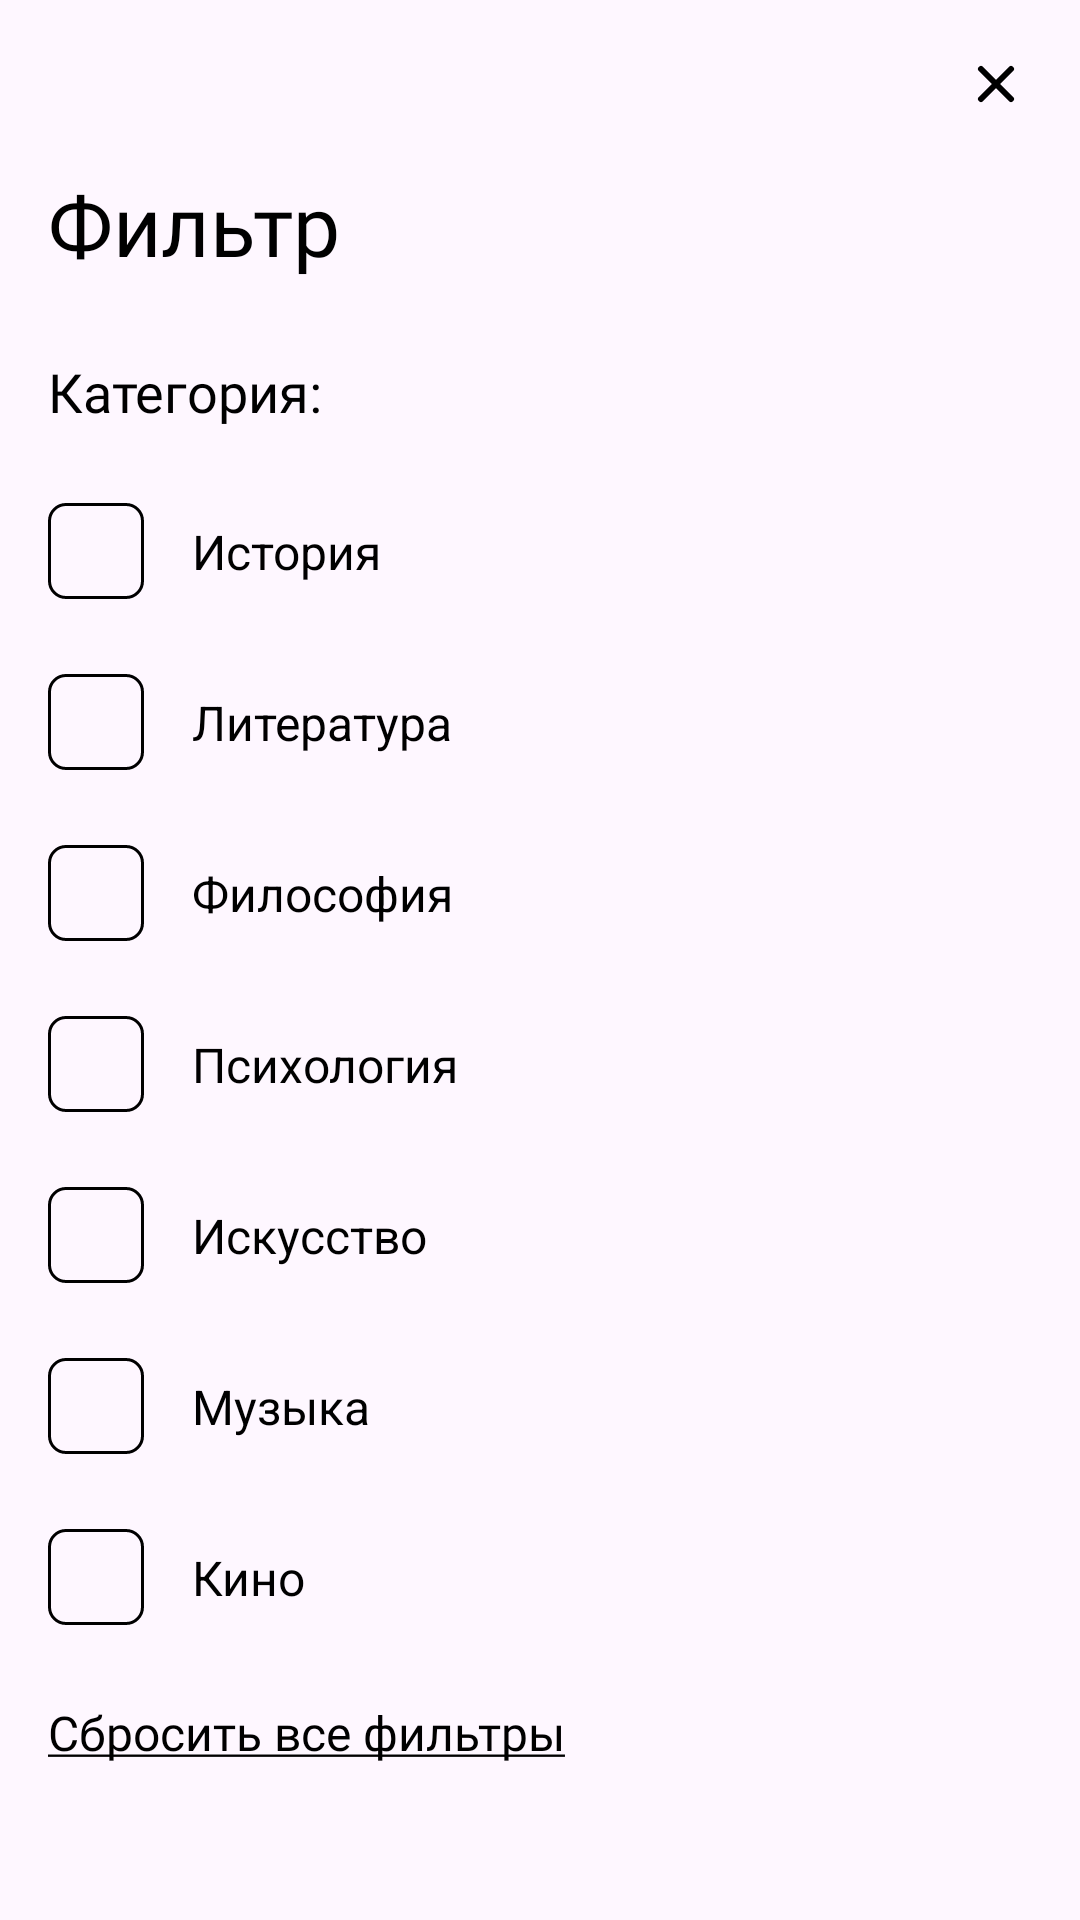

Icons on this 1080 × 1920 Android screen, each with the point to tap as (x=x, y=y):
iconamoon close: (x=996, y=84)
